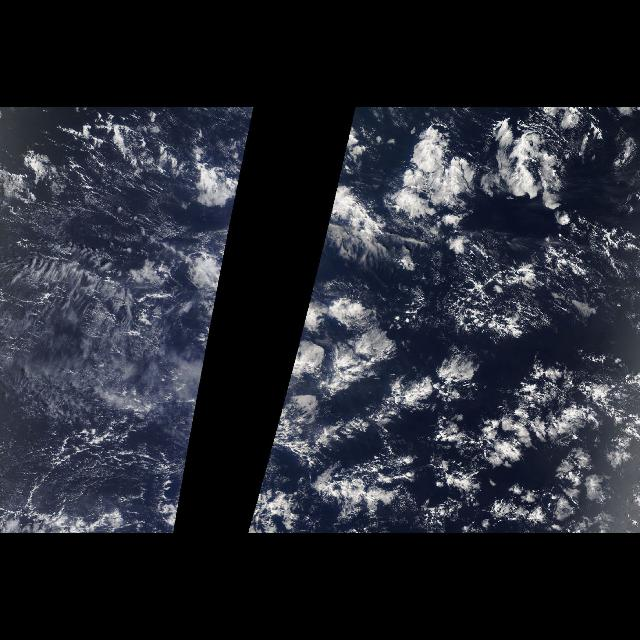Flower: (268, 114, 624, 528), (193, 260, 224, 426)
Gravel: (41, 421, 176, 513)
Sugar: (8, 152, 168, 496)
